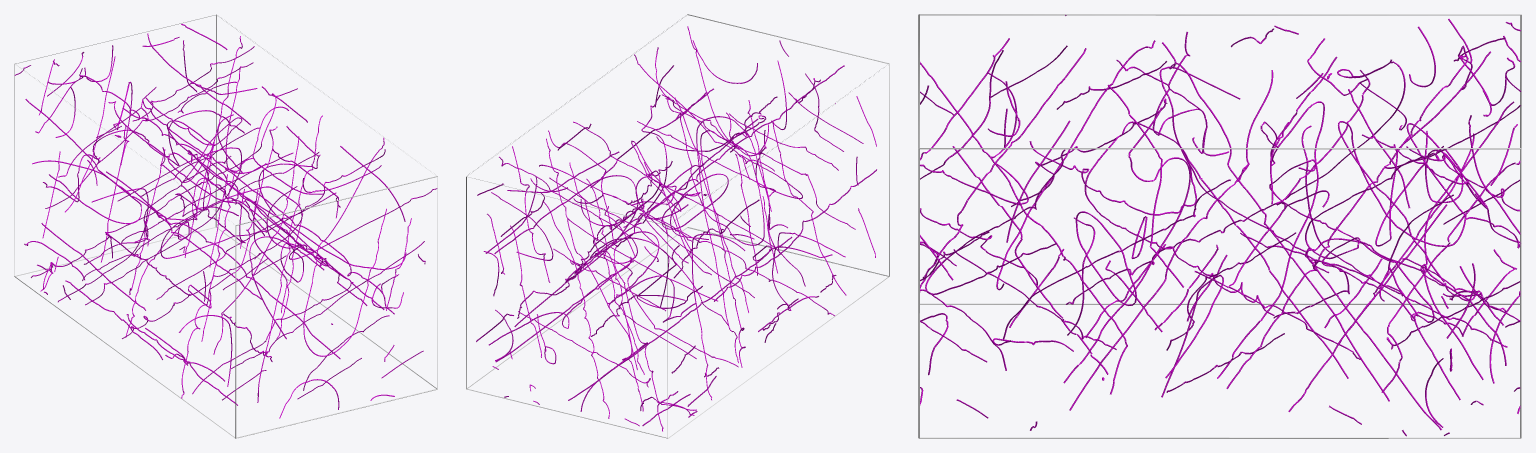
The picture shows the model from 3 angles, left to right: view 1: azimuth 30°, elevation 25°; view 2: azimuth 150°, elevation 25°; view 3: azimuth 270°, elevation 25°; orthographic projection. The views are drawn at different scales.
Visible parts, largest first — view 1: Shape_IndexedLineSet.001, Shape_IndexedLineSet; view 2: Shape_IndexedLineSet.001, Shape_IndexedLineSet; view 3: Shape_IndexedLineSet.001, Shape_IndexedLineSet.
Part boxes in pixels (box(x1,y1,x2,y2)): Shape_IndexedLineSet.001: box(14, 24, 437, 418); Shape_IndexedLineSet: box(14, 14, 437, 438); Shape_IndexedLineSet.001: box(476, 26, 876, 431); Shape_IndexedLineSet: box(466, 14, 889, 438); Shape_IndexedLineSet.001: box(920, 15, 1521, 436); Shape_IndexedLineSet: box(918, 14, 1521, 438).
Size of the model in its own units: 237 by 239 by 449.
